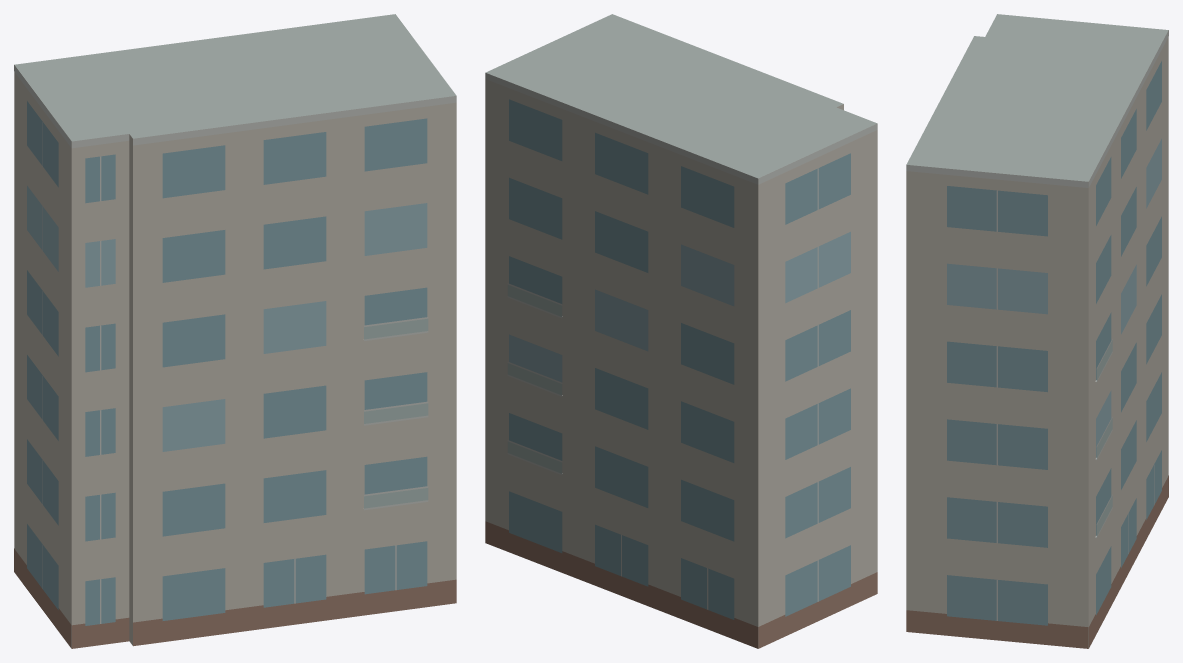
File: survey-upis-32967409.glb
3 views of the same model, side by side, from view 1: azimuth 30°, elevation 25°; view 2: azimuth 150°, elevation 25°; view 3: azimuth 270°, elevation 25° (orthographic). The views are drawn at different scales.
Visible parts, largest first — view 1: survey-upis-32967409.tmp; view 2: survey-upis-32967409.tmp; view 3: survey-upis-32967409.tmp.
Boxes of the visible parts, x1,y1,x2,y2 form: survey-upis-32967409.tmp: (14, 14, 456, 648); survey-upis-32967409.tmp: (485, 14, 877, 648); survey-upis-32967409.tmp: (906, 14, 1168, 648).
Size of the model in its own units: 13.95 by 18.1 by 9.23.
